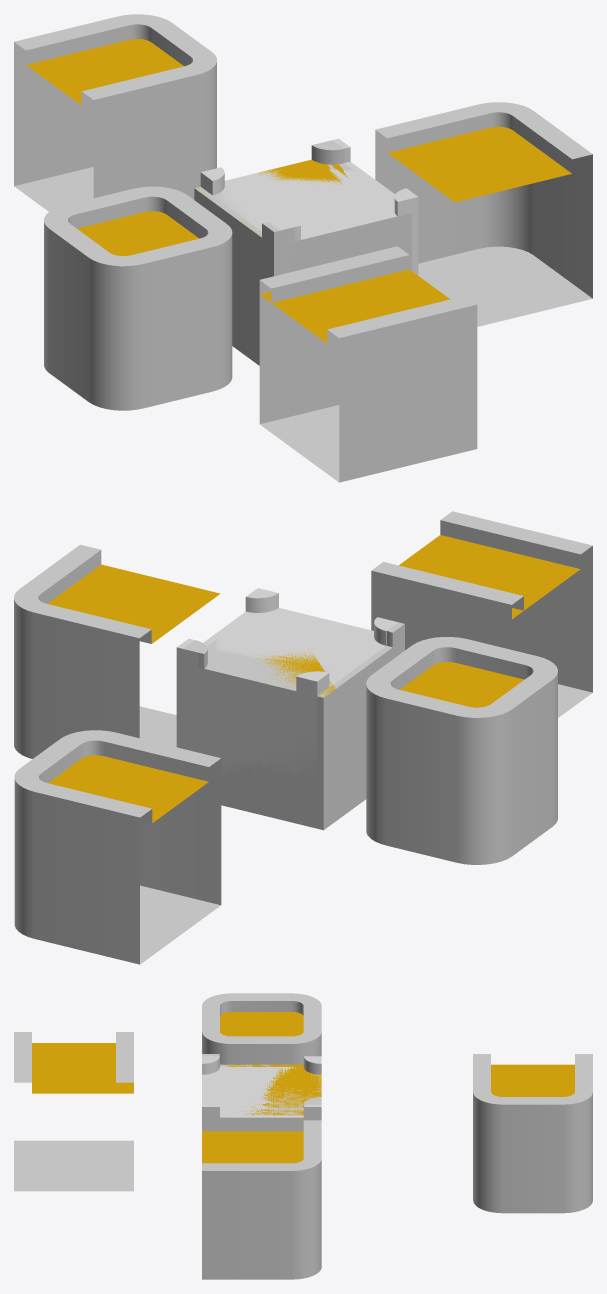
File: RuleTileAssets updated.fbx
3 views of the same model, one above another, from view 1: azimuth 30°, elevation 25°; view 2: azimuth 150°, elevation 25°; view 3: azimuth 270°, elevation 25° (orthographic). The views are drawn at different scales.
Parts seen in each view (by area): view 1: Horizontal, Center.001, 1Rounded, 2Rounded, Center, Base, Center.002, Center.003, Side, 4InvertedCorners; view 2: 2Rounded, Center.001, 1Rounded, Horizontal, Base, Center, Center.003, Center.002, Side, 4InvertedCorners; view 3: 2Rounded, 1Rounded, Horizontal, Center.001, Side, Base, Center.002, 4InvertedCorners, Center.
Part boxes in pixels (box(x1,y1,x2,y2)): Horizontal: box(259, 246, 477, 482); Center.001: box(44, 186, 232, 410); 1Rounded: box(375, 102, 592, 326); 2Rounded: box(14, 14, 216, 211); Center: box(194, 163, 411, 365); Base: box(216, 162, 418, 275); Center.002: box(195, 140, 411, 362); Center.003: box(195, 147, 411, 364); Side: box(260, 291, 418, 481); 4InvertedCorners: box(200, 138, 418, 244); 2Rounded: box(14, 730, 221, 964); Center.001: box(366, 637, 557, 864); 1Rounded: box(14, 544, 220, 758); Horizontal: box(371, 511, 592, 717); Base: box(176, 608, 385, 785); Center: box(204, 636, 404, 829); Center.003: box(183, 622, 404, 829); Center.002: box(186, 639, 404, 830); Side: box(399, 536, 589, 712); 4InvertedCorners: box(176, 588, 397, 696); 2Rounded: box(473, 1054, 592, 1213); 1Rounded: box(202, 1120, 321, 1279); Horizontal: box(14, 1032, 133, 1191); Center.001: box(202, 993, 321, 1064); Side: box(14, 1043, 133, 1190); Base: box(202, 1067, 321, 1131); Center.002: box(225, 1064, 321, 1115); 4InvertedCorners: box(202, 1056, 321, 1117); Center: box(220, 1064, 321, 1115).
Size of the model in its own units: 7.01 by 2 by 9.66.
